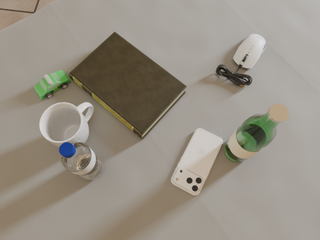book: (69, 32, 187, 139)
bottle: (225, 104, 289, 162), (59, 140, 103, 180)
cup: (40, 102, 93, 147)
mouse: (233, 34, 266, 69)
phone: (171, 128, 223, 195)
toy_car: (34, 70, 71, 99)
